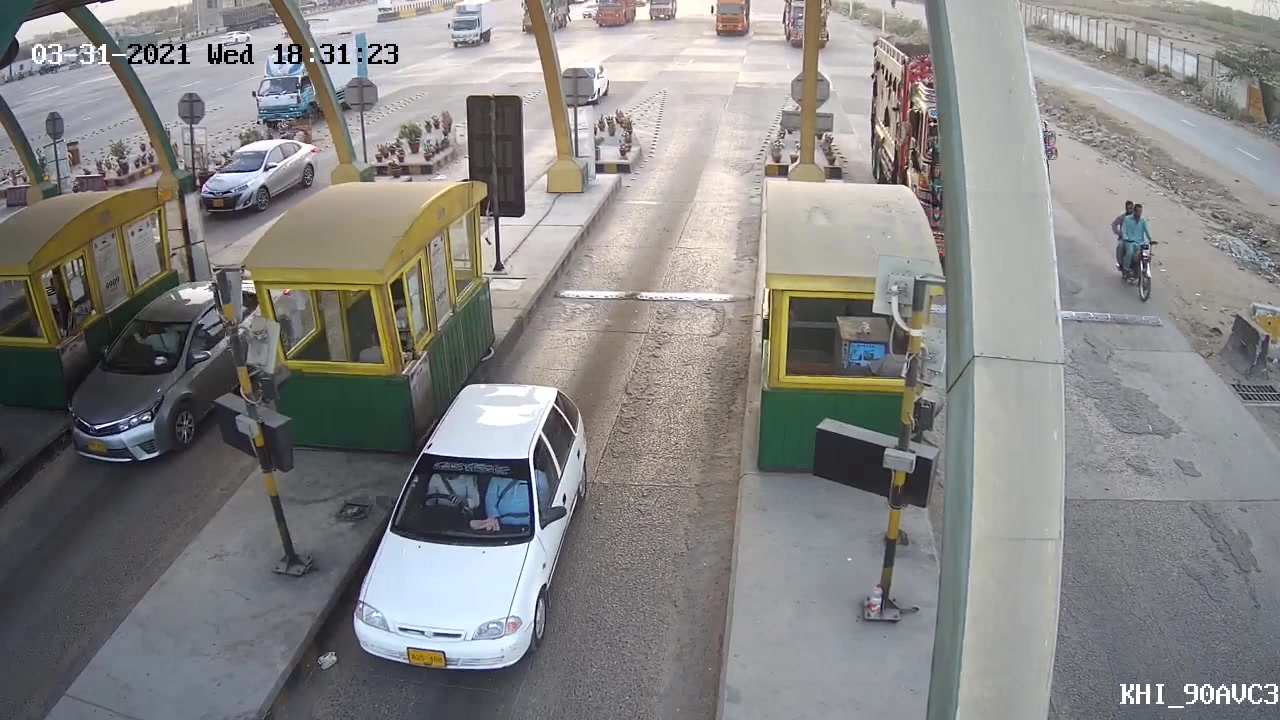F1: (354, 379, 602, 678)
